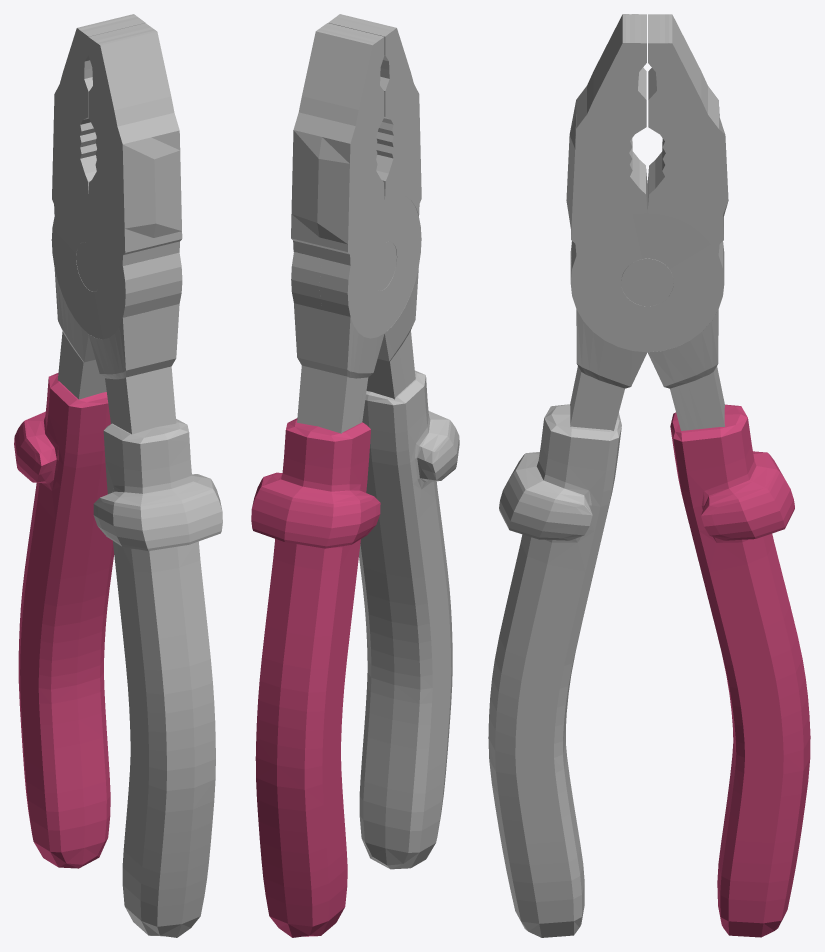
The model's file is interactive_19_1.glb.
3 renders of one model, left to right at view 1: azimuth 30°, elevation 25°; view 2: azimuth 150°, elevation 25°; view 3: azimuth 270°, elevation 25°, orthographic. The views are drawn at different scales.
Visible parts, largest first — view 1: pred_target_mesh.ply; view 2: pred_target_mesh.ply; view 3: pred_target_mesh.ply.
Part boxes in pixels (<box>): pred_target_mesh.ply: <box>14,14,222,937</box>; pred_target_mesh.ply: <box>251,14,459,937</box>; pred_target_mesh.ply: <box>488,14,810,937</box>.
Size of the model in its own units: 0.1211 by 0.9447 by 0.3048.
